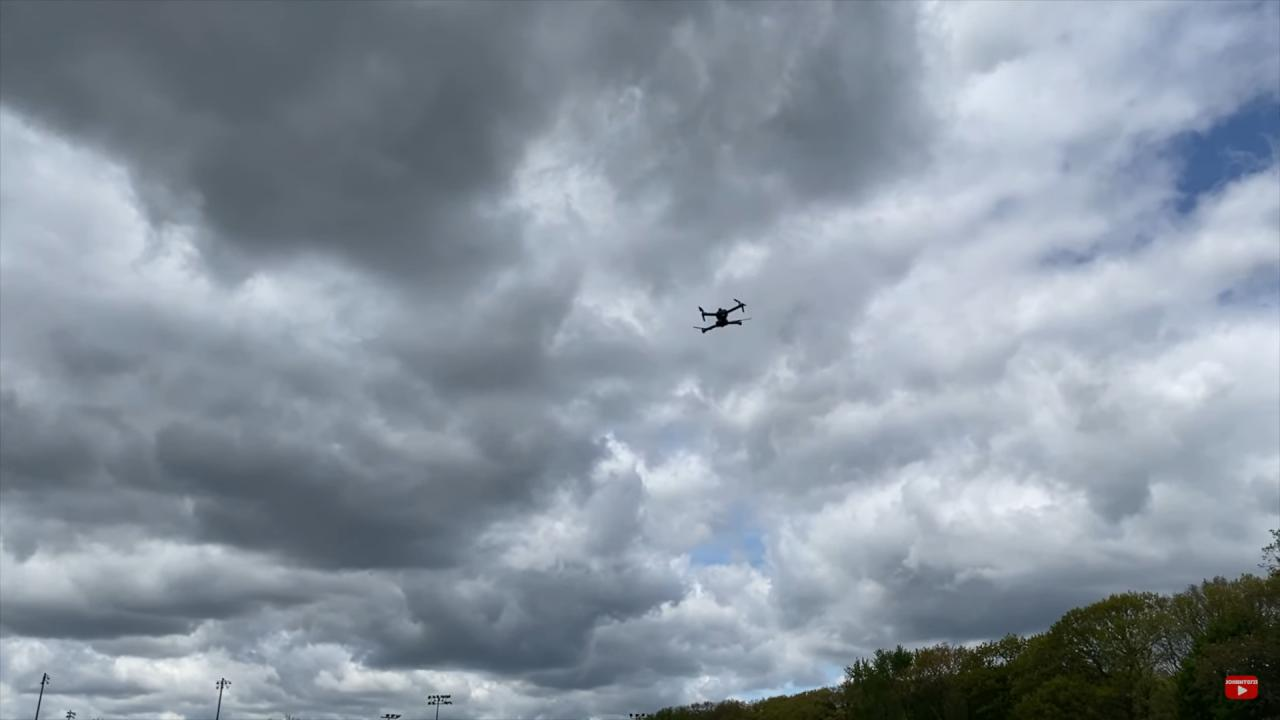Drone: (684, 288, 756, 344)
